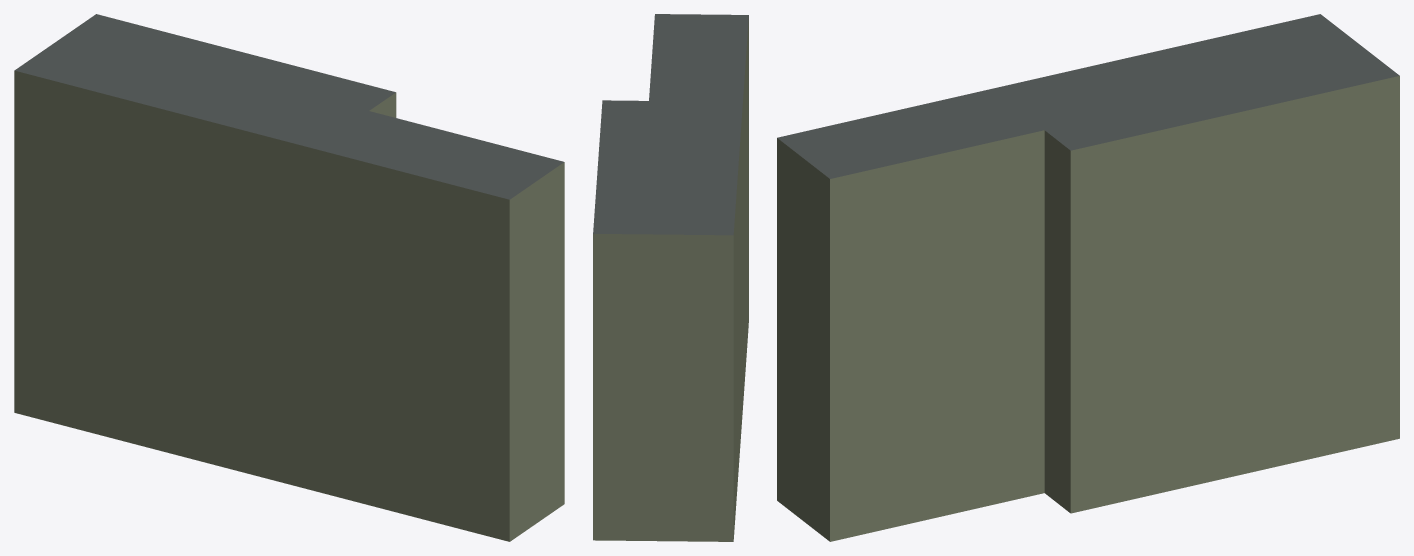
Rendered from nyc-1016042-0.glb.
3 views of the same model, side by side, from view 1: azimuth 30°, elevation 25°; view 2: azimuth 150°, elevation 25°; view 3: azimuth 270°, elevation 25° (orthographic). The views are drawn at different scales.
Parts seen in each view (by area): view 1: nyc-1016042-0; view 2: nyc-1016042-0; view 3: nyc-1016042-0.
Part boxes in pixels (x1,y1,x2,y2): nyc-1016042-0: [14, 14, 564, 541]; nyc-1016042-0: [593, 14, 748, 541]; nyc-1016042-0: [777, 14, 1399, 541].
Size of the model in its own units: 18.38 by 18.84 by 29.31.
